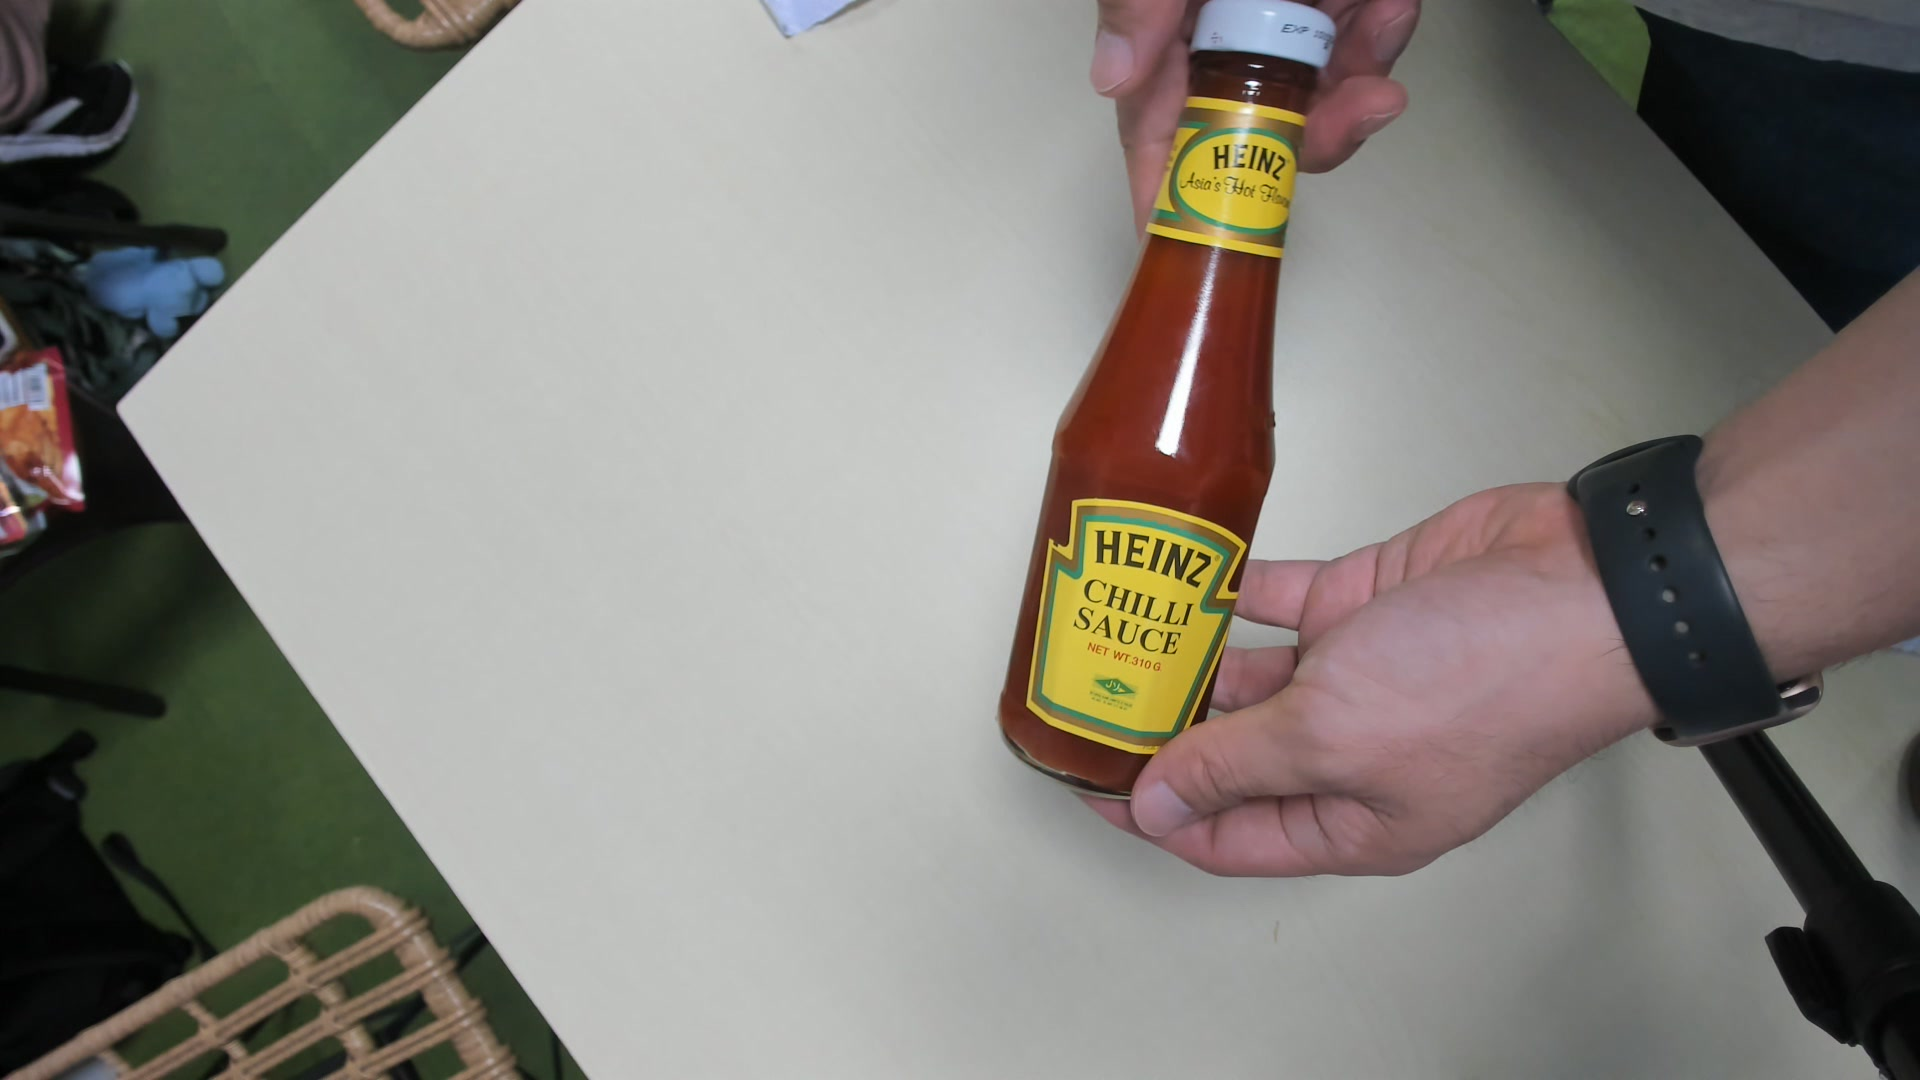KetchupChillSauce_300-399g_Halal_NonHealthy: (1004, 8, 1336, 796)
